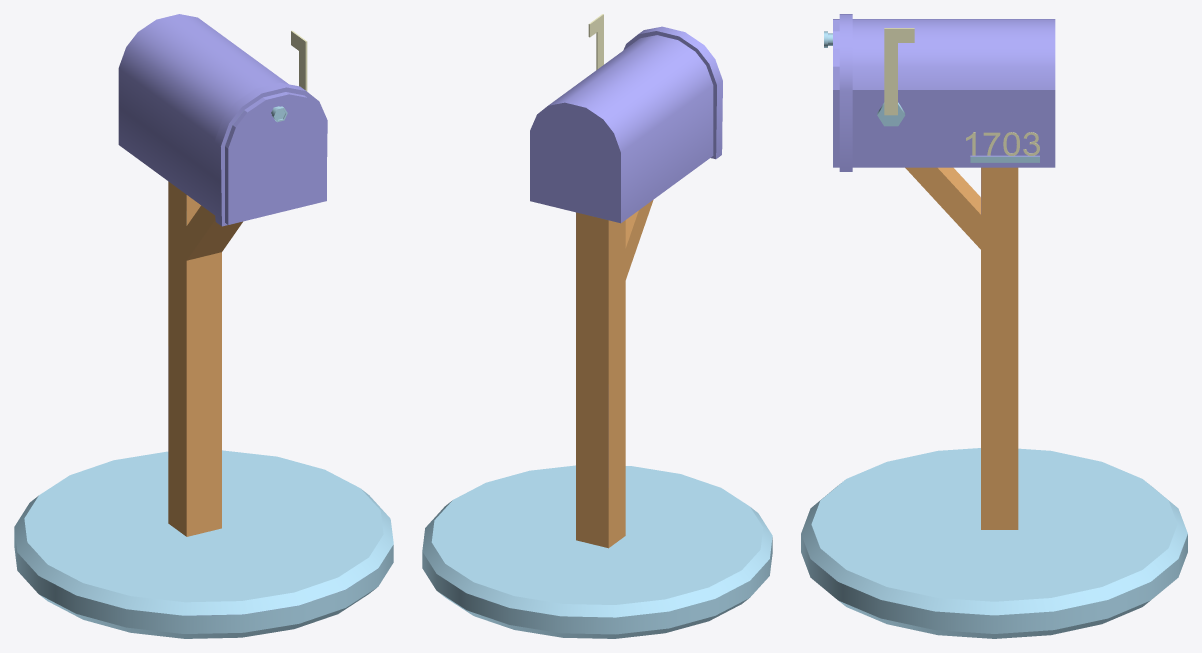
The model's file is homthu.fbx.
3 views of the same model, side by side, from view 1: azimuth 30°, elevation 25°; view 2: azimuth 150°, elevation 25°; view 3: azimuth 270°, elevation 25° (orthographic). The views are drawn at different scales.
Visible parts, largest first — view 1: homthu; view 2: homthu; view 3: homthu.
Boxes of the visible parts, <box> form: homthu: <box>14,14,393,638</box>; homthu: <box>422,14,772,638</box>; homthu: <box>801,14,1187,638</box>.
Bounding box in the file's own units: 83.77 × 133 × 83.77.
1 material, 1 textured.
